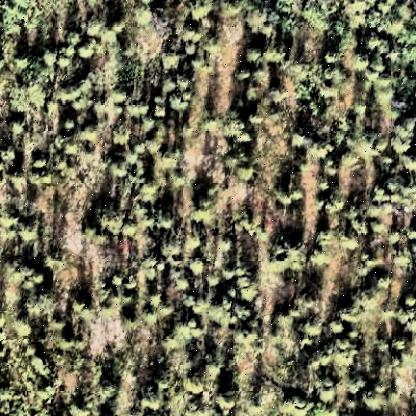tree-top: (7, 83, 44, 116), (25, 291, 57, 319), (20, 83, 52, 111), (96, 207, 123, 237), (251, 9, 281, 34), (285, 393, 317, 416), (28, 265, 54, 293), (299, 291, 323, 321), (321, 186, 347, 213), (361, 386, 390, 410), (158, 147, 184, 173), (309, 140, 335, 166), (301, 316, 327, 342), (274, 307, 300, 333), (85, 17, 110, 43), (225, 112, 249, 138), (287, 128, 315, 150), (64, 82, 86, 110), (4, 203, 23, 235), (192, 198, 215, 224), (366, 30, 388, 57), (353, 137, 377, 161), (191, 369, 215, 393), (32, 351, 56, 375), (57, 332, 81, 356), (192, 55, 216, 78), (243, 44, 266, 68), (274, 246, 298, 269), (81, 122, 106, 144), (235, 161, 259, 183), (170, 92, 194, 114), (251, 65, 275, 87), (337, 150, 361, 172), (136, 5, 158, 28), (395, 247, 416, 271), (122, 311, 144, 333), (143, 177, 165, 199), (186, 377, 209, 398), (163, 48, 183, 72), (351, 52, 371, 76), (310, 248, 332, 269), (203, 361, 224, 383), (72, 297, 94, 318), (322, 47, 340, 72), (170, 171, 192, 191), (22, 220, 44, 240), (30, 153, 52, 173), (188, 2, 212, 20), (374, 271, 395, 291), (109, 158, 129, 178), (238, 285, 258, 305), (153, 101, 173, 121), (114, 128, 134, 148), (223, 1, 245, 18), (80, 43, 97, 65), (62, 113, 79, 135), (147, 291, 165, 311), (189, 258, 209, 276), (339, 234, 359, 252), (1, 144, 18, 165), (43, 47, 61, 66), (142, 307, 160, 325), (402, 154, 416, 175), (405, 290, 416, 309)
